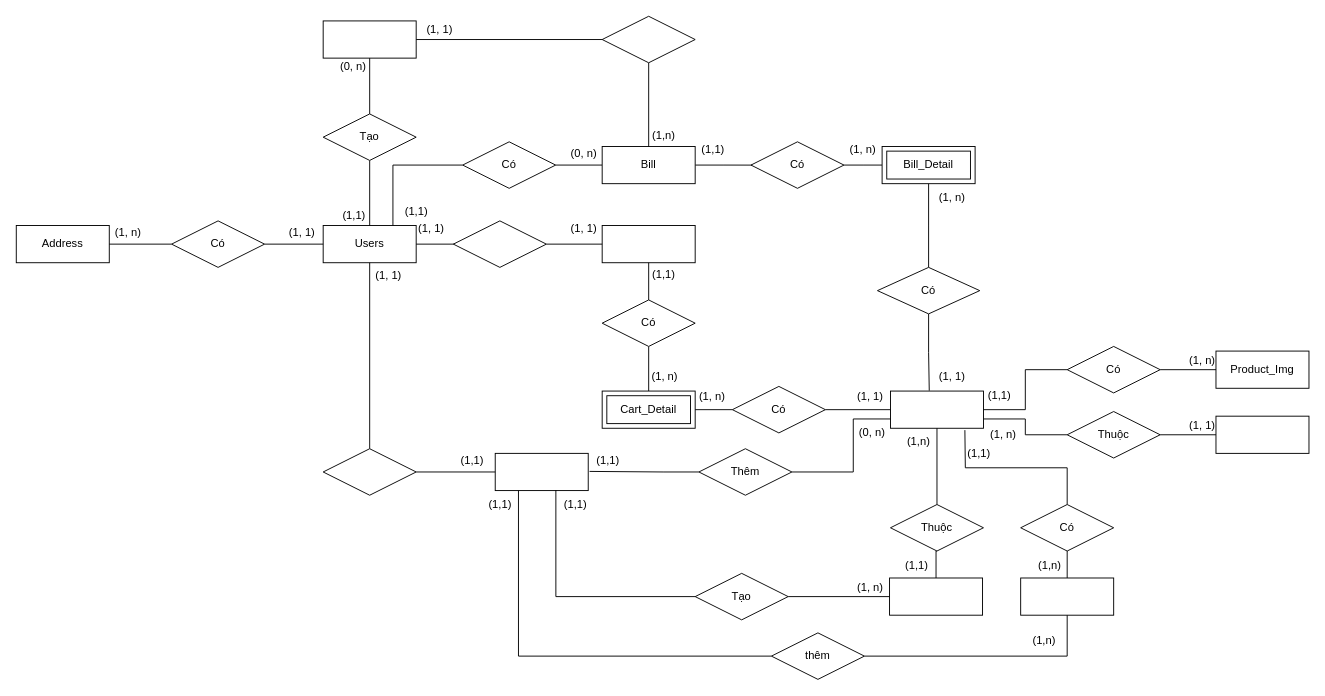
This 1325x696 diagram has some shape labels left out. The shapes that lost their labels are listed below. From the top down, each one's centre as x and y in pixels, then its label:
At (369,39): "Coupou".
At (648,39): "áp dụng".
At (499,243): "đặt hàng".
At (648,244): "Cart".
At (936,409): "Products".
At (1262,434): "Categories".
At (369,471): "Đăng kí".
At (541,471): "Shop".
At (936,596): "Promotion".
At (1067,596): "Comment".
